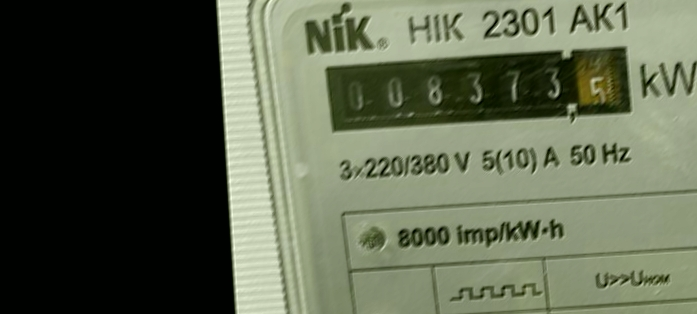0: (345, 76, 367, 113), (385, 73, 406, 110)
3: (541, 63, 566, 101), (464, 68, 487, 106)
4: (586, 53, 605, 74)
5: (588, 73, 609, 105)
7: (503, 65, 524, 105)
8: (424, 70, 447, 108)
screen: (320, 39, 641, 145)
